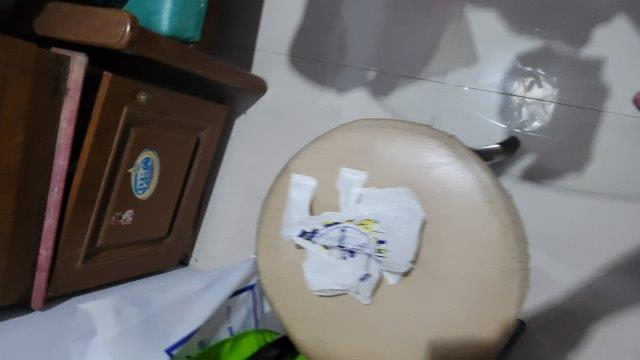plastik: (281, 168, 428, 303)
